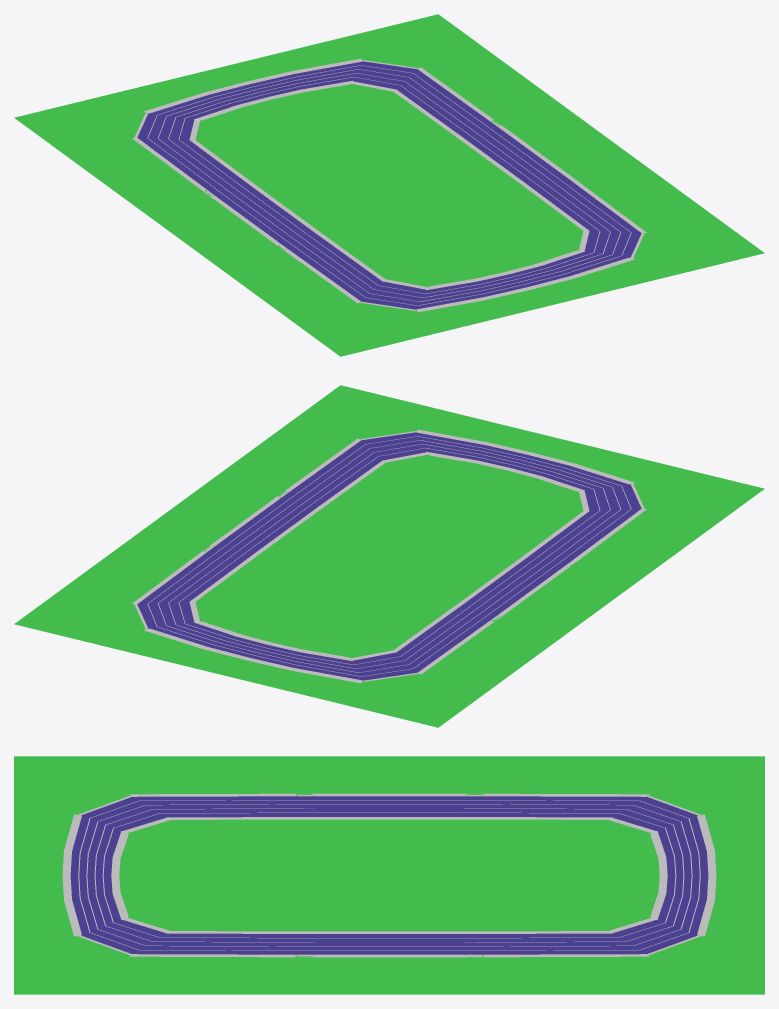
The model's file is track_field.fbx.
The picture shows the model from 3 angles, top to bottom: view 1: azimuth 30°, elevation 25°; view 2: azimuth 150°, elevation 25°; view 3: azimuth 270°, elevation 25°; orthographic projection. The views are drawn at different scales.
Parts seen in each view (by area): view 1: Plane; view 2: Plane; view 3: Plane.
Boxes of the visible parts, x1,y1,x2,y2 form: Plane: (14, 14, 764, 356); Plane: (14, 385, 764, 727); Plane: (14, 756, 764, 994).
Bounding box in the file's own units: 1598 × 0.000347 × 2130.
